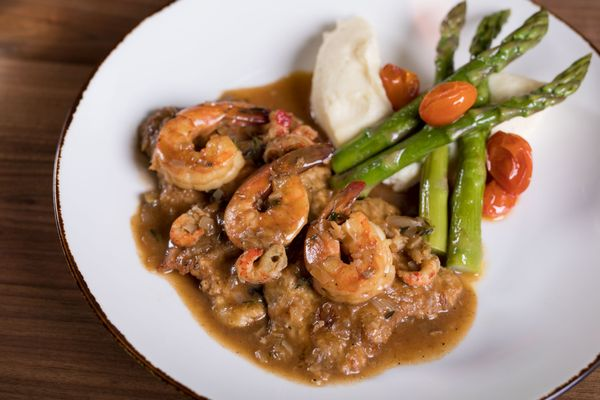curry: (6, 0, 597, 393)
pizza: (418, 80, 477, 126)
